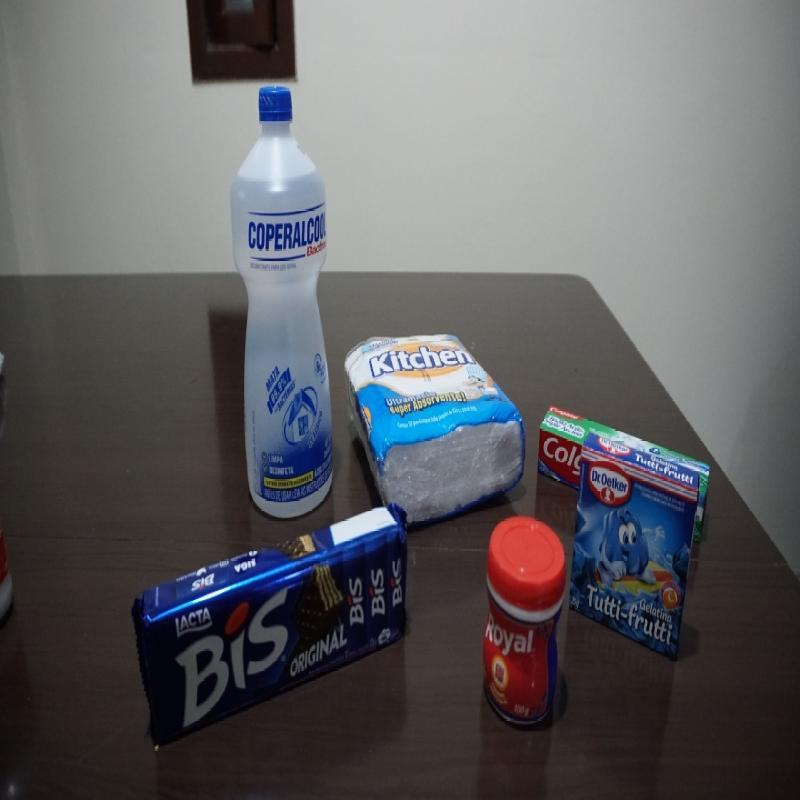Alcohol Bottle: (229, 84, 336, 508)
Gelatine: (569, 439, 700, 677)
Napkin: (339, 333, 529, 515)
Yeast: (483, 516, 568, 725)
